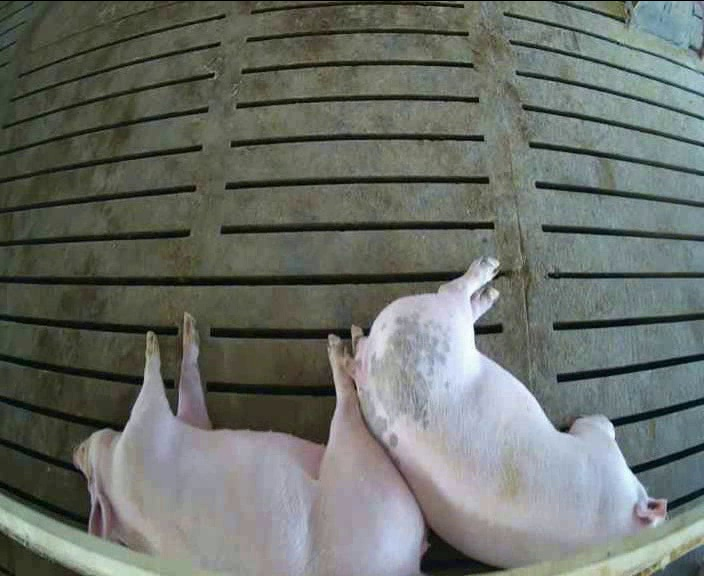pig: (355, 259, 664, 566)
